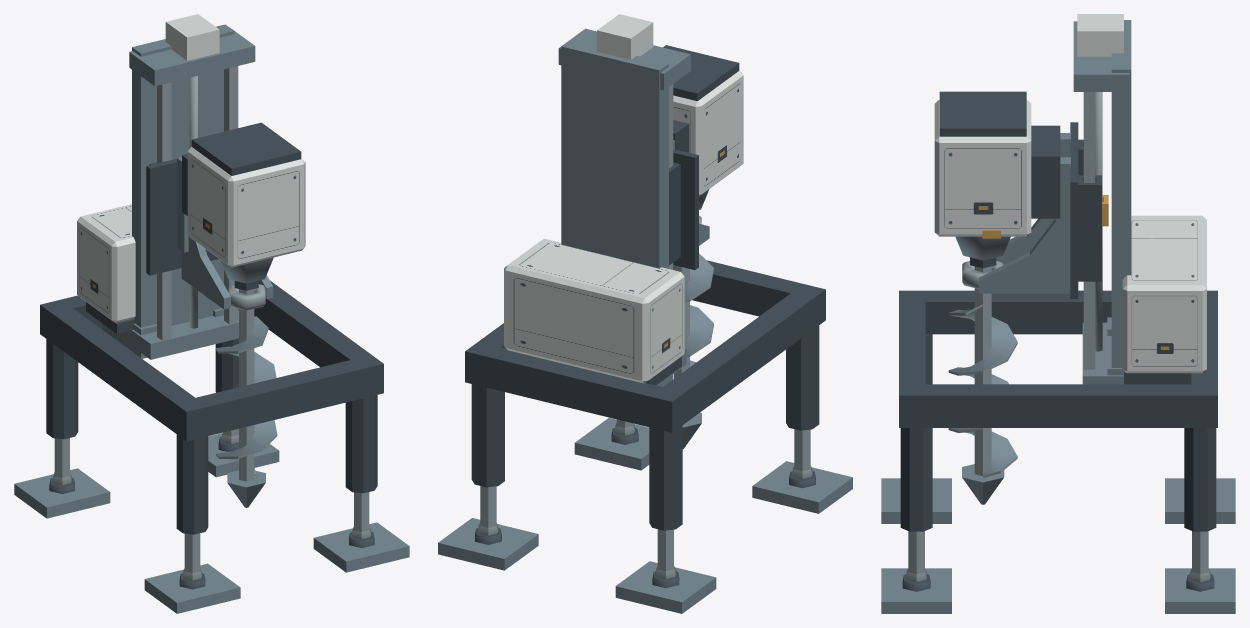
File: Research_Drill_LOD2.glb
The picture shows the model from 3 angles, left to right: view 1: azimuth 30°, elevation 25°; view 2: azimuth 150°, elevation 25°; view 3: azimuth 270°, elevation 25°; orthographic projection. The views are drawn at different scales.
Parts seen in each view (by area): view 1: Frame, Carriage, Auger_Rotating, Foot_FR, Foot_RL, Foot_FL, Foot_RR, Leg_FL, Leg_RL, Leg_FR; view 2: Frame, Carriage, Foot_RL, Foot_RR, Foot_FL, Auger_Rotating, Foot_FR, Leg_FL, Leg_RR, Leg_RL; view 3: Frame, Carriage, Auger_Rotating, Foot_FR, Foot_RR, Foot_FL, Foot_RL, Leg_FR, Leg_RR.
Boxes of the visible parts, x1,y1,x2,y2 form: Frame: [40, 14, 383, 534]; Carriage: [146, 122, 305, 310]; Auger_Rotating: [216, 281, 277, 507]; Foot_FR: [313, 522, 409, 572]; Foot_RL: [14, 468, 110, 518]; Foot_FL: [144, 563, 240, 613]; Foot_RR: [208, 433, 279, 477]; Leg_FL: [183, 533, 201, 580]; Leg_RL: [52, 438, 71, 485]; Leg_FR: [352, 492, 371, 539]; Frame: [465, 14, 825, 530]; Carriage: [663, 45, 743, 269]; Foot_RL: [615, 561, 716, 613]; Foot_RR: [438, 518, 538, 570]; Foot_FL: [752, 461, 852, 513]; Auger_Rotating: [673, 253, 713, 448]; Foot_FR: [574, 418, 649, 470]; Leg_FL: [792, 429, 812, 478]; Leg_RR: [478, 486, 498, 535]; Leg_RL: [656, 529, 675, 578]; Frame: [899, 14, 1217, 531]; Carriage: [934, 91, 1108, 298]; Auger_Rotating: [948, 257, 1017, 504]; Foot_FR: [881, 568, 951, 613]; Foot_RR: [1165, 568, 1235, 613]; Foot_FL: [881, 478, 951, 523]; Foot_RL: [1165, 478, 1235, 523]; Leg_FR: [906, 531, 926, 582]; Leg_RR: [1190, 531, 1210, 582].
Size of the model in its own units: 0.66 by 1.32 by 0.8.
1 material, 1 textured.
